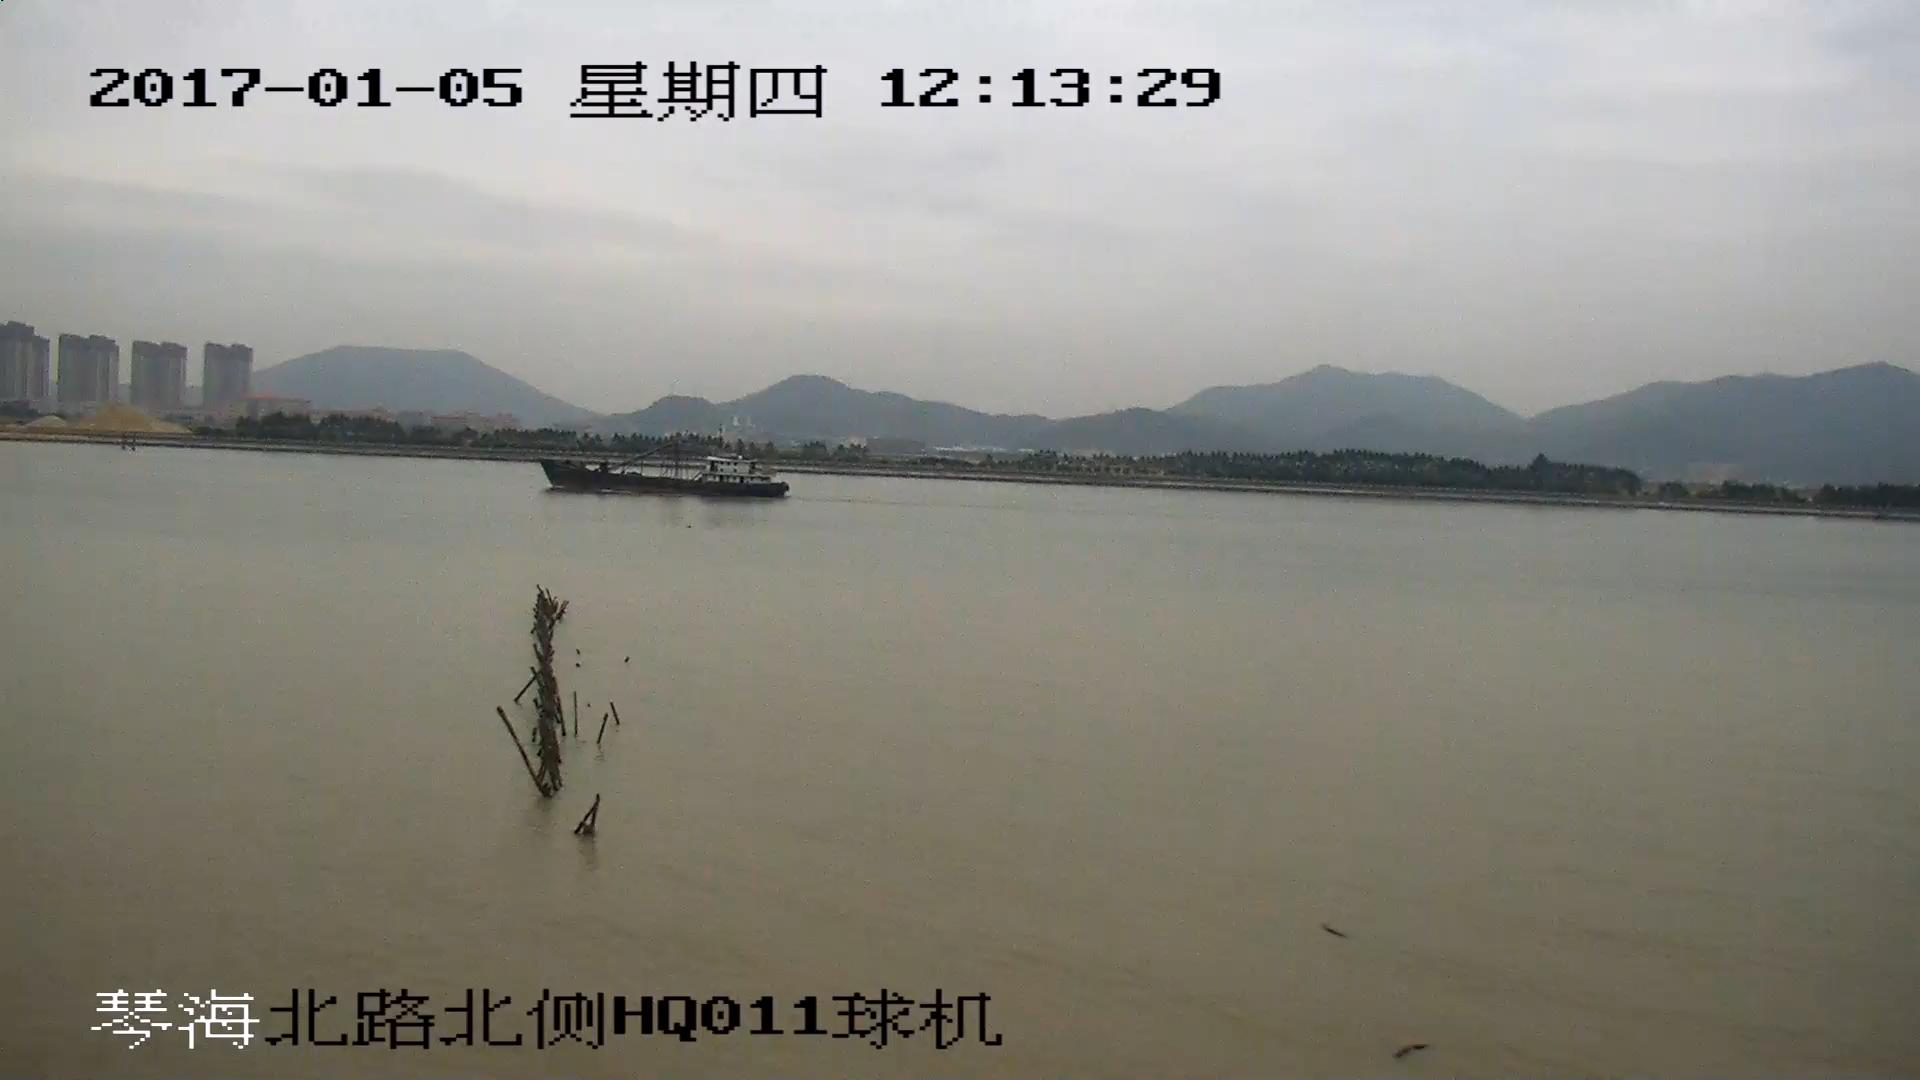fishing boat: (540, 424, 785, 497)
